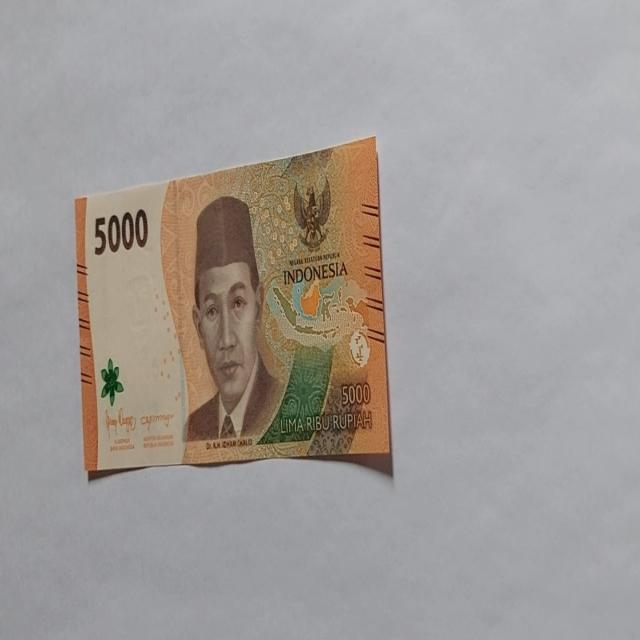lima ribu rupiah: (74, 135, 393, 479), (184, 193, 286, 444)
